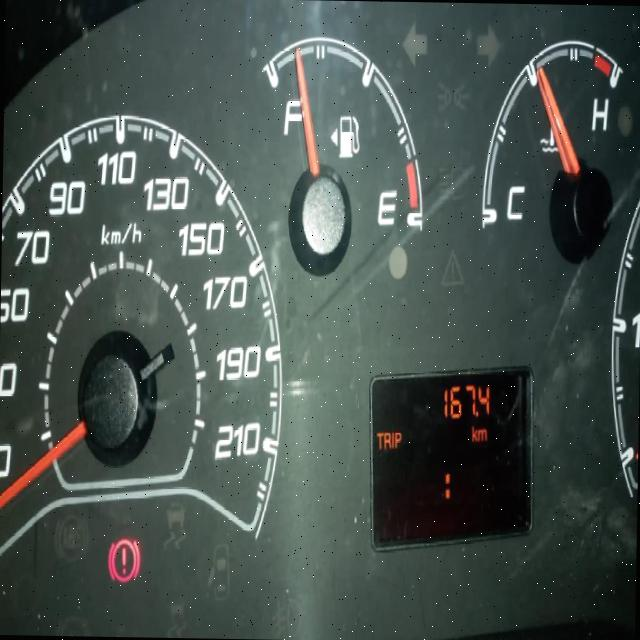odometer: (366, 360, 536, 555)
